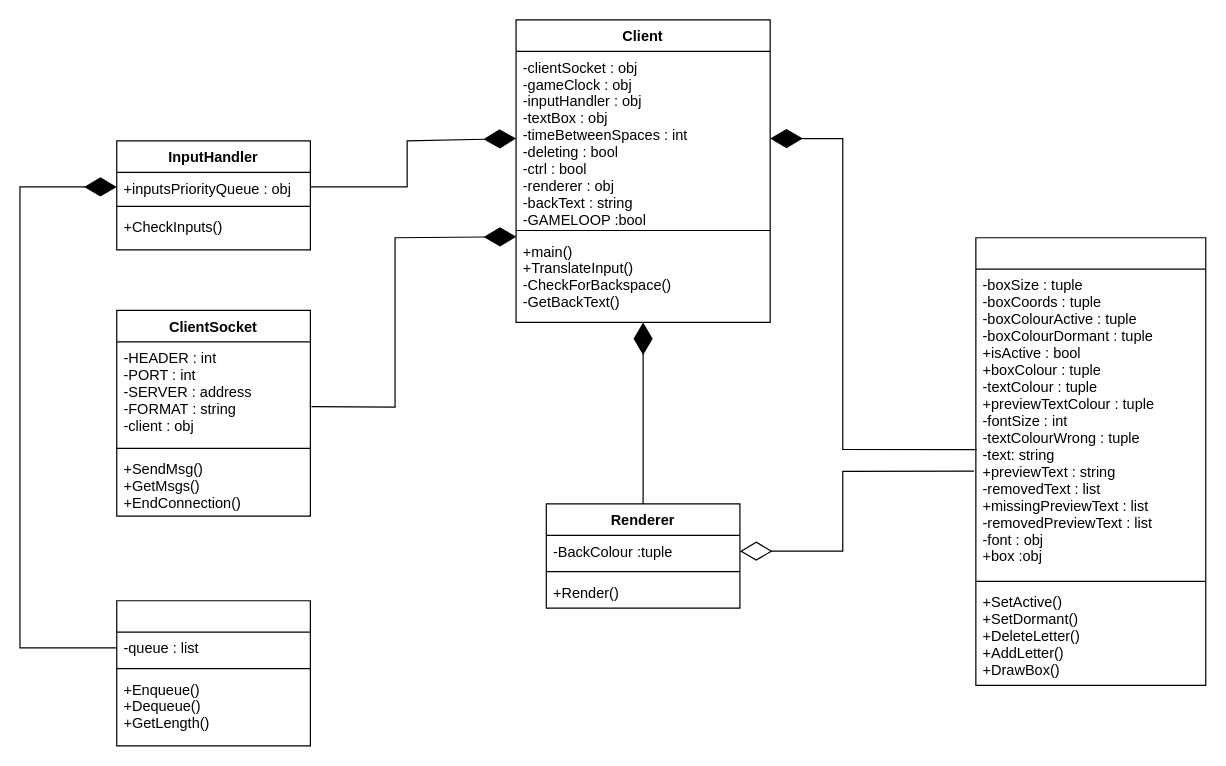
Some shapes in this 1226 by 766 pixel diagram are drawn without their labels. Here are the shapes that lost their labels. From the top down, the box of each, then its label:
(975, 237, 1206, 685): TextBox
(116, 600, 310, 746): PriorityQueue
